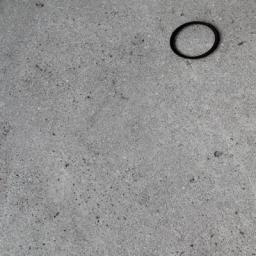FOD: (169, 20, 222, 62)
